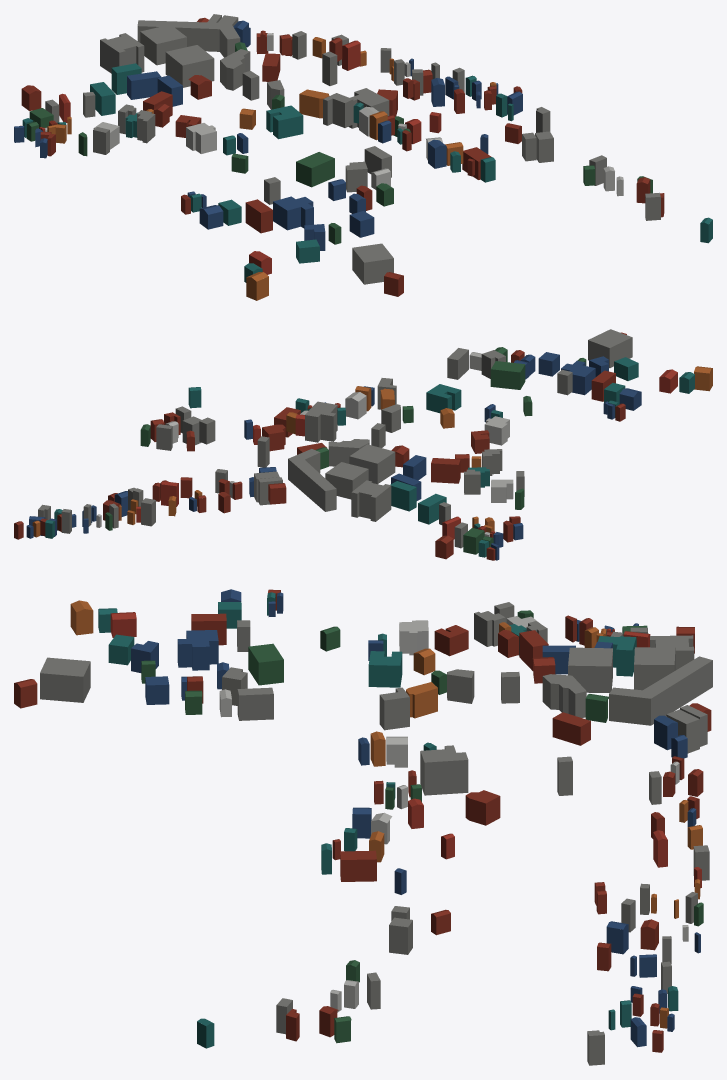
The model's file is near-16-54727-29737.1a22334e.glb.
3 renders of one model, top to bottom at view 1: azimuth 30°, elevation 25°; view 2: azimuth 150°, elevation 25°; view 3: azimuth 270°, elevation 25°, orthographic. The views are drawn at different scales.
Bounding box in the file's own units: 596 × 188 × 586.
